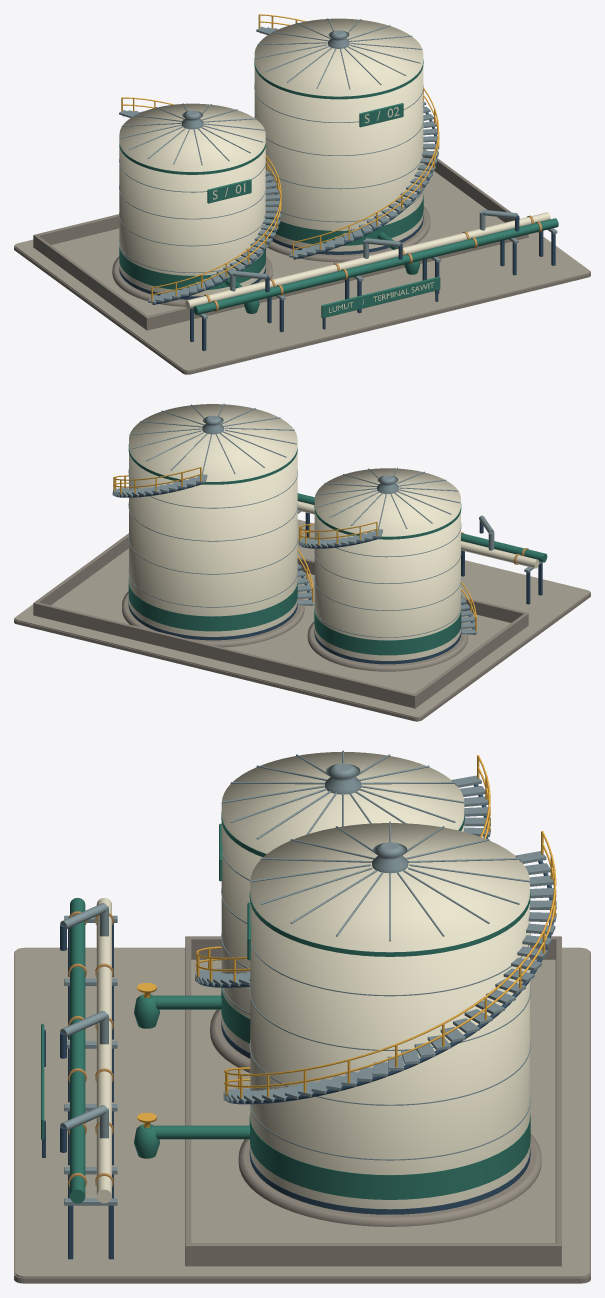
3 renders of one model, top to bottom at view 1: azimuth 30°, elevation 25°; view 2: azimuth 150°, elevation 25°; view 3: azimuth 270°, elevation 25°, orthographic. The views are drawn at different scales.
Visible parts, largest first — view 1: Insulated Storage Tanks, Secondary Containment, Transfer Manifolds, Roof Access, Loading Gantry; view 2: Insulated Storage Tanks, Secondary Containment, Roof Access, Transfer Manifolds, Loading Gantry; view 3: Insulated Storage Tanks, Secondary Containment, Transfer Manifolds, Roof Access, Loading Gantry.
Boxes of the visible parts, x1,y1,x2,y2 form: Insulated Storage Tanks: (112,18,430,306); Secondary Containment: (14,149,590,374); Transfer Manifolds: (185,209,558,315); Roof Access: (119,14,439,304); Loading Gantry: (190,228,557,350); Insulated Storage Tanks: (122,403,467,671); Secondary Containment: (14,519,590,721); Roof Access: (112,467,476,634); Transfer Manifolds: (297,493,547,568); Loading Gantry: (297,510,542,604); Insulated Storage Tanks: (210,750,541,1226); Secondary Containment: (14,936,590,1283); Transfer Manifolds: (60,897,249,1203); Roof Access: (195,755,556,1104); Loading Gantry: (41,915,117,1259).
Bounding box in the file's own units: 31.5 × 14.42 × 23.3.
